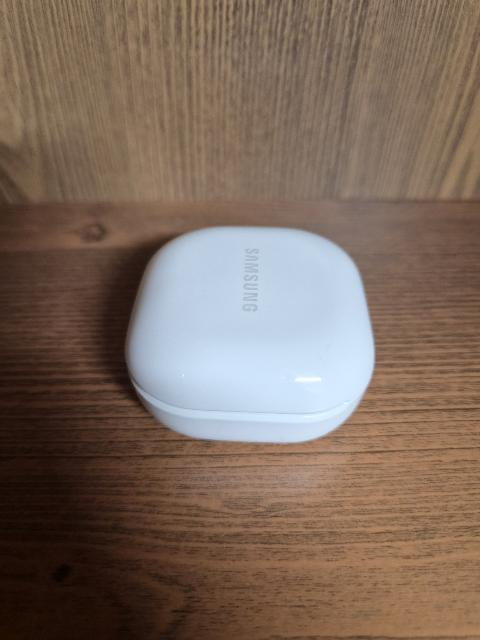earphone_case: (124, 227, 375, 443)
